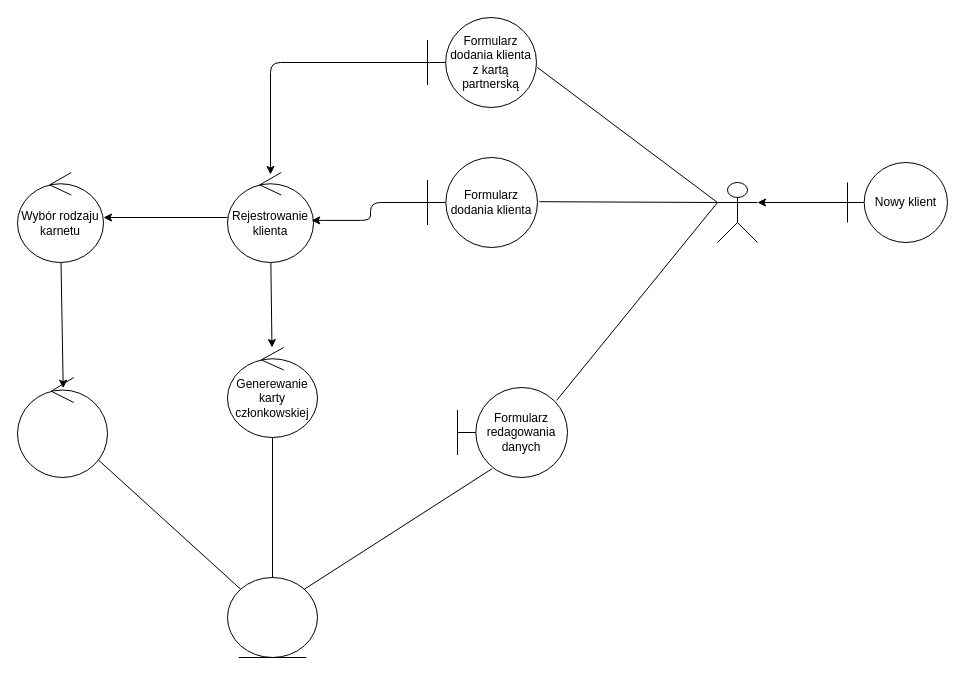
The diagram is 965 pixels wide and 675 high, and some of its shapes have lost their labels. The shapes that lost their labels are listed below. From the top down, each one's centre as x and y in pixels, then its label:
(737,212): Recepcjonista
(62,427): Płatność
(272,617): Baza Danych
